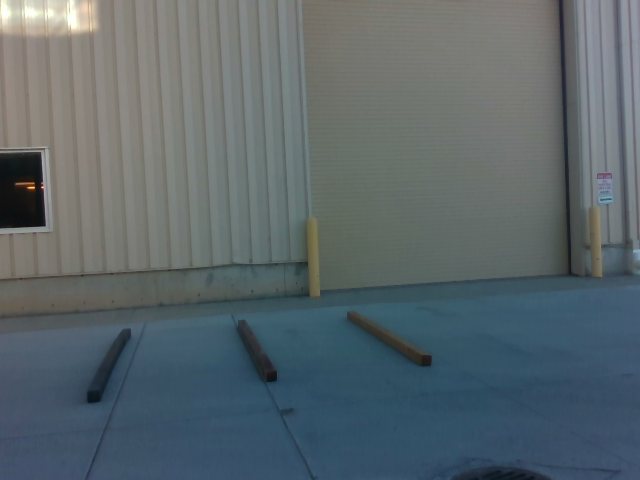Dunnage: (76, 300, 435, 413)
